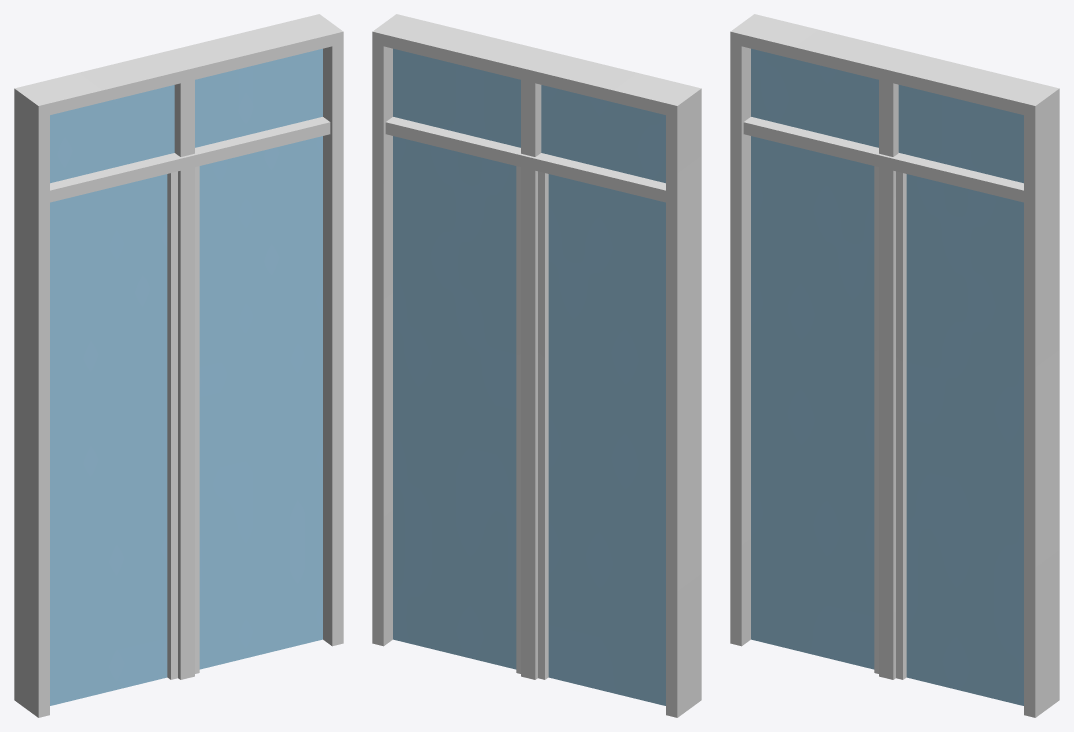
Rendered from window_009.fbx.
The picture shows the model from 3 angles, left to right: view 1: azimuth 30°, elevation 25°; view 2: azimuth 150°, elevation 25°; view 3: azimuth 330°, elevation 25°; orthographic projection.
Parts seen in each view (by area): view 1: window_009; view 2: window_009; view 3: window_009.
Boxes of the visible parts, x1,y1,x2,y2 form: window_009: (14,14,343,717); window_009: (372,14,701,717); window_009: (730,14,1059,717).
Bounding box in the file's own units: 170 × 23.31 × 326.
